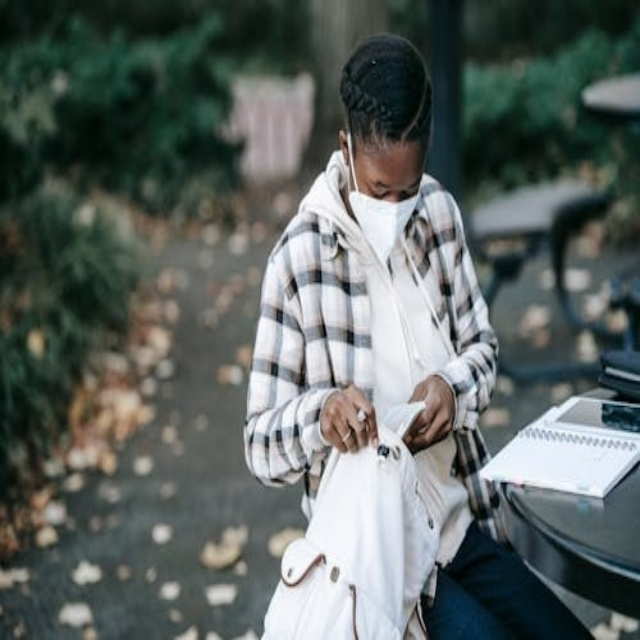Mascara: (346, 144, 423, 265)
Sin_gafas: (356, 165, 424, 206)
Sin_guantes: (398, 363, 456, 459), (319, 377, 383, 455)
